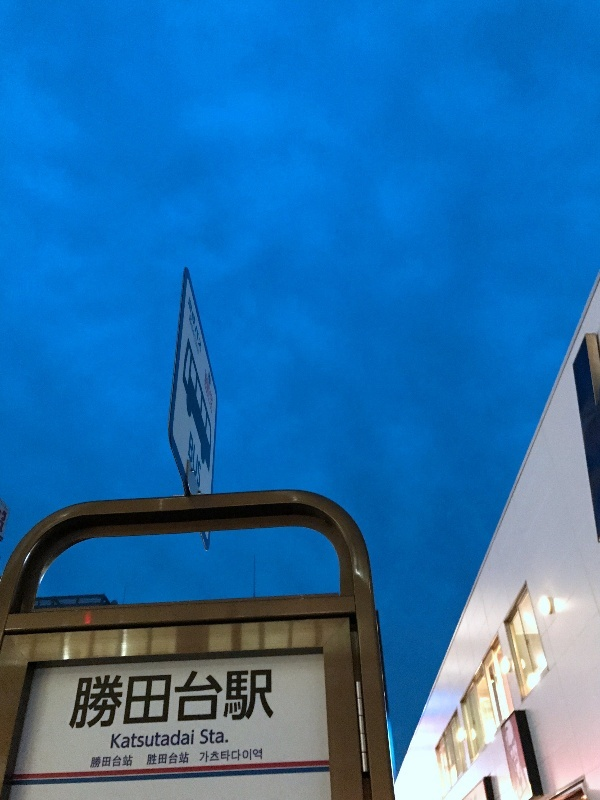text: (81, 668, 96, 731), (97, 668, 112, 731), (113, 668, 128, 731), (129, 668, 144, 731), (145, 668, 160, 731), (161, 668, 176, 731), (177, 668, 192, 731), (193, 668, 208, 731), (209, 668, 224, 731), (225, 668, 240, 731), (241, 668, 256, 731), (257, 668, 272, 731), (193, 429, 203, 490), (193, 295, 202, 356), (209, 362, 215, 415), (161, 749, 176, 769), (209, 747, 224, 766), (225, 747, 240, 766), (241, 747, 256, 766), (113, 730, 128, 749), (129, 730, 144, 749), (145, 730, 160, 749), (161, 730, 176, 749), (177, 730, 192, 749), (97, 755, 112, 773), (113, 755, 128, 773), (147, 749, 160, 769), (177, 749, 190, 769), (188, 295, 192, 356), (209, 729, 224, 745), (189, 429, 192, 490), (199, 747, 208, 766), (205, 362, 208, 415), (257, 747, 264, 766), (201, 729, 208, 745), (129, 755, 134, 773), (92, 755, 96, 773), (225, 729, 229, 745), (79, 668, 80, 731), (273, 668, 274, 731), (193, 730, 194, 749)
